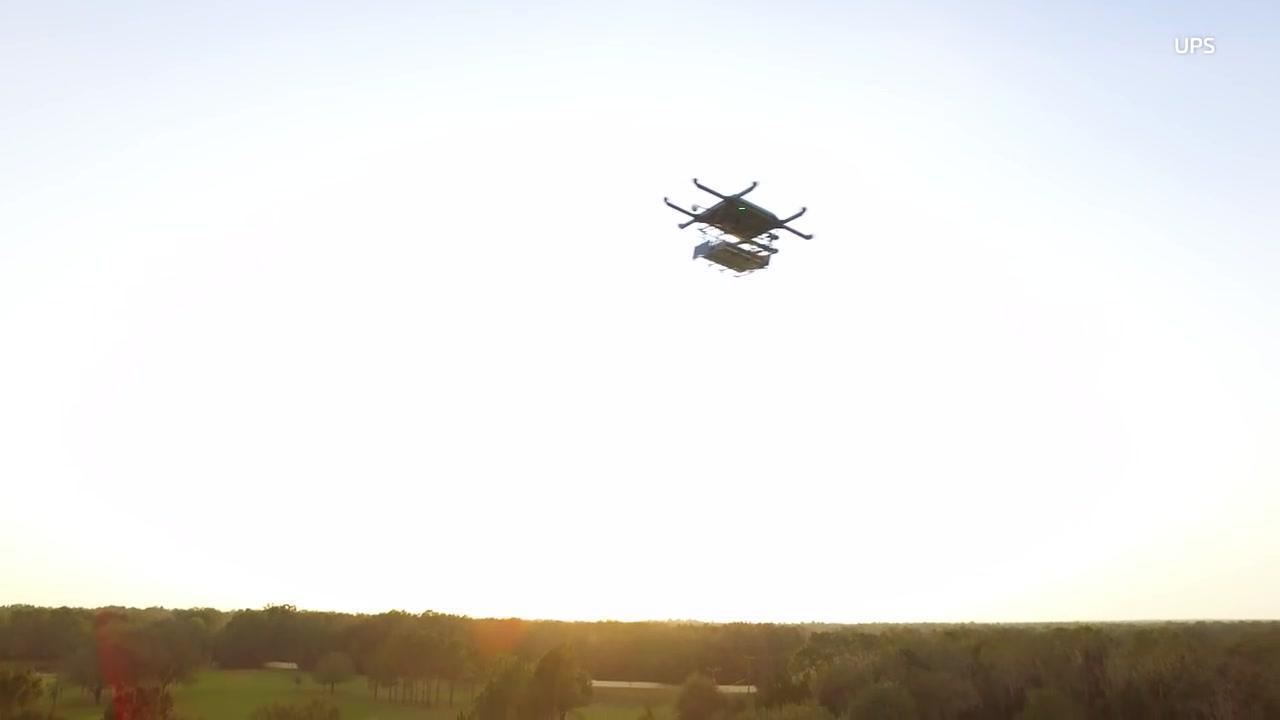UAV: (665, 179, 814, 278)
